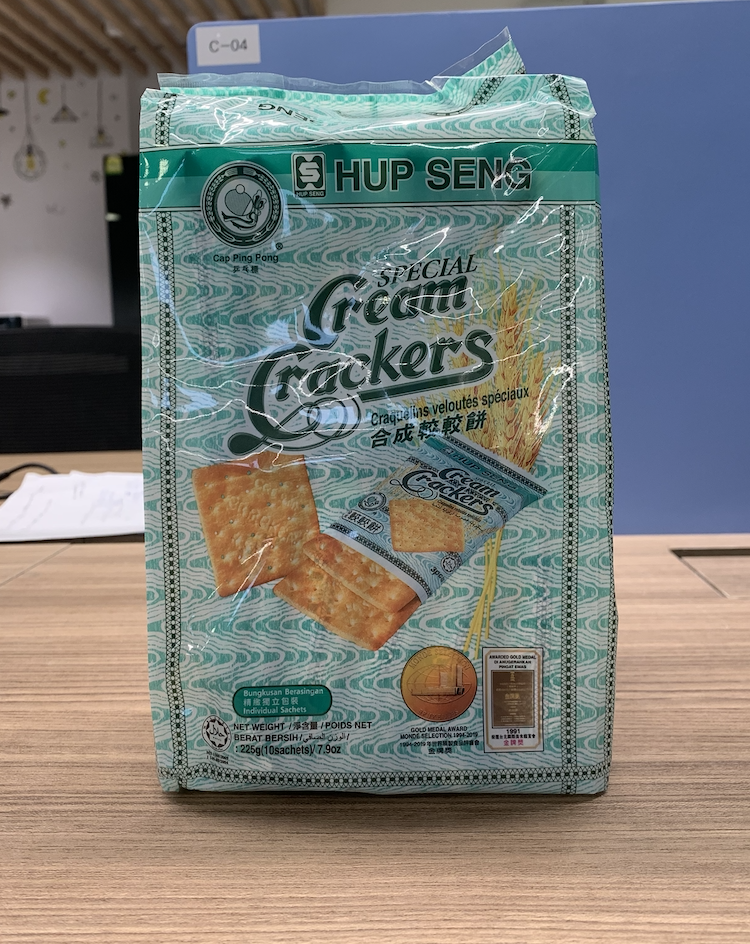crackers_200g-299g: (156, 95, 605, 773)
